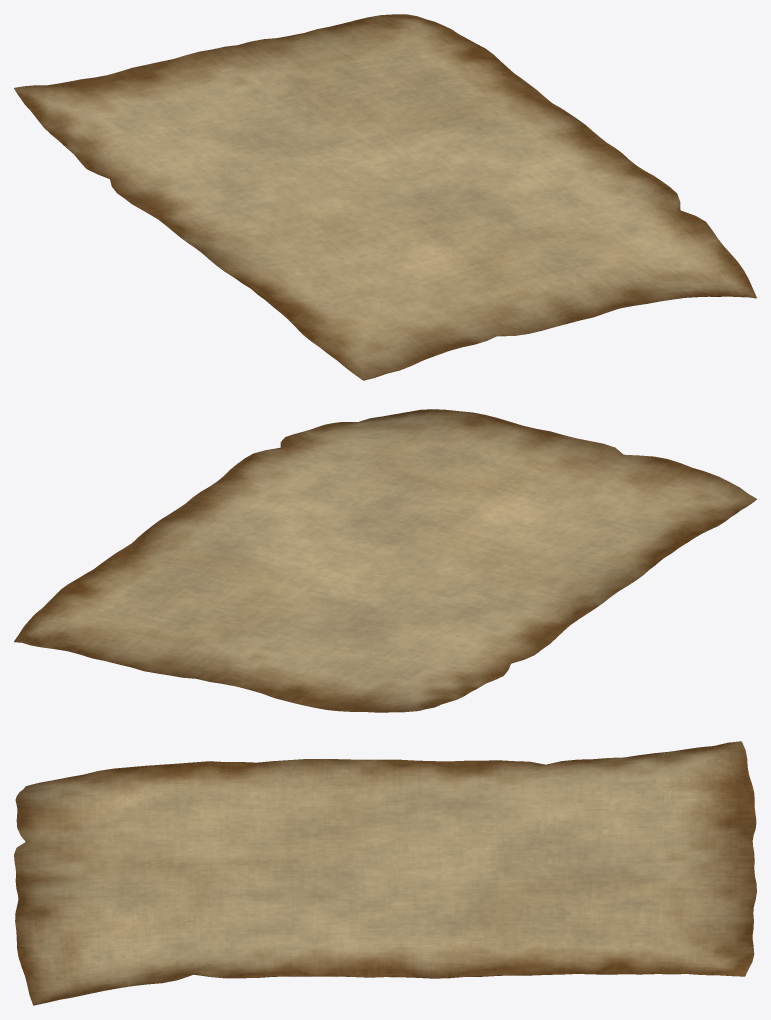
Rendered from documento_1.glb.
3 renders of one model, top to bottom at view 1: azimuth 30°, elevation 25°; view 2: azimuth 150°, elevation 25°; view 3: azimuth 270°, elevation 25°, orthographic. The views are drawn at different scales.
Visible parts, largest first — view 1: Documento_1; view 2: Documento_1; view 3: Documento_1.
Part boxes in pixels (x1,y1,x2,y2): Documento_1: (14,14,756,380); Documento_1: (14,409,756,712); Documento_1: (14,741,756,1005).
Bounding box in the file's own units: 0.2547 × 0.0338 × 0.3722.
1 material, 1 textured.
